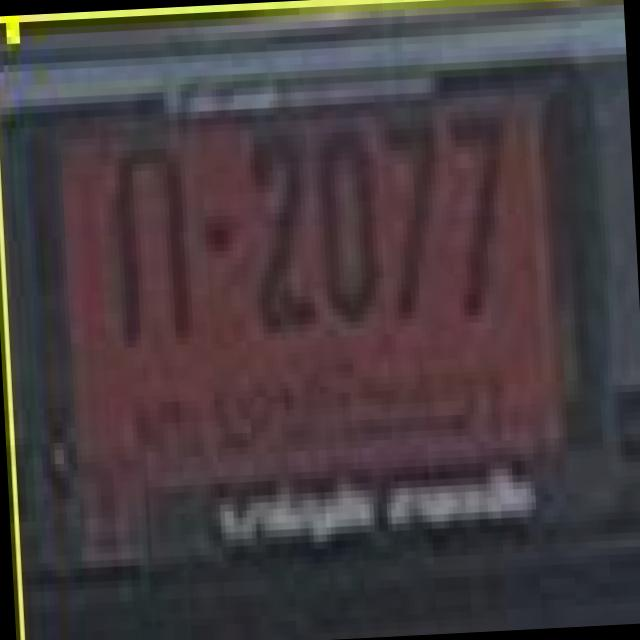license_plate: (41, 75, 608, 548)
